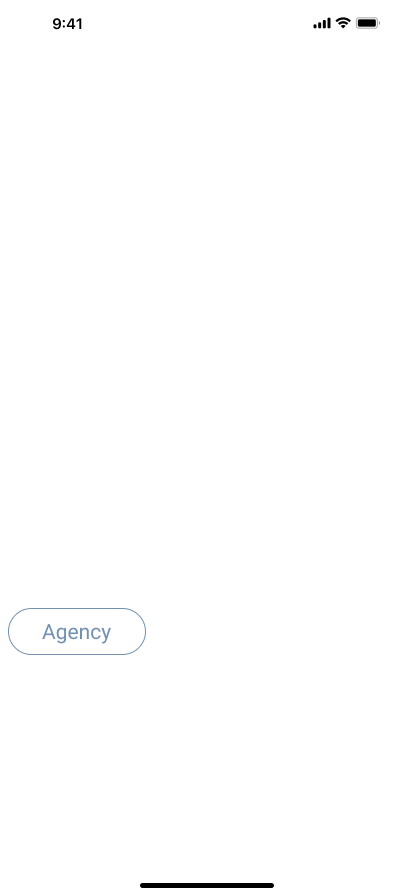Buttons: (8, 608, 154, 655)
Home Indicator: (0, 862, 414, 896)
Status Bar: (0, 0, 414, 44)
